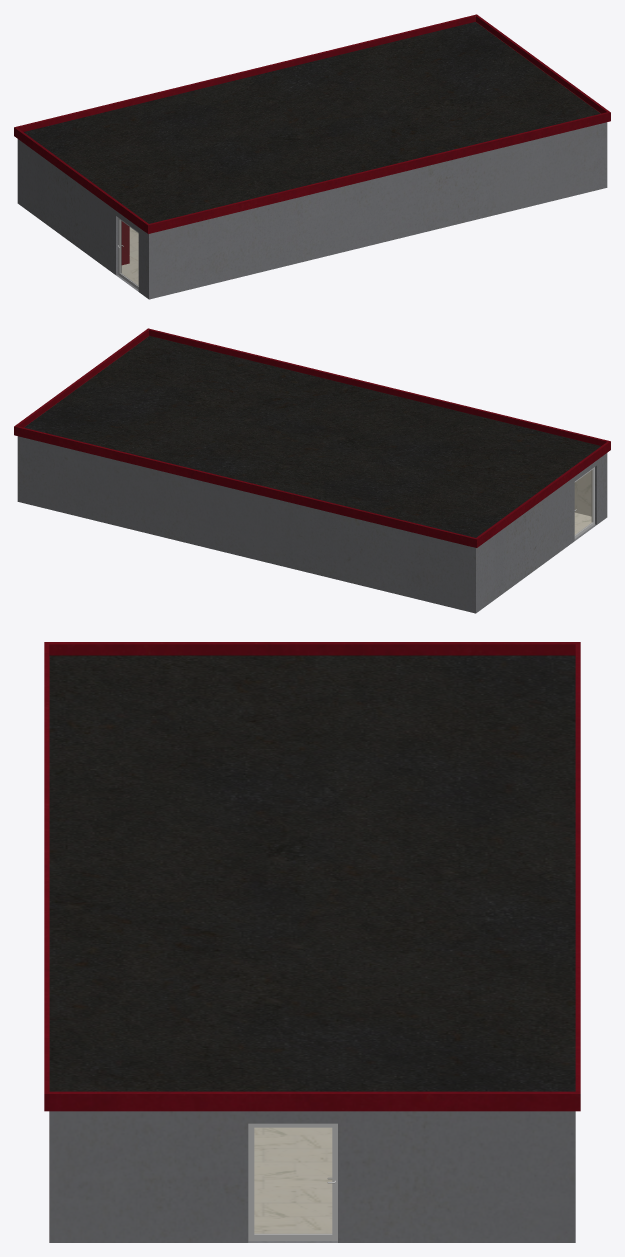
The model's file is shop.obj.
3 views of the same model, one above another, from view 1: azimuth 30°, elevation 25°; view 2: azimuth 150°, elevation 25°; view 3: azimuth 270°, elevation 25° (orthographic). The views are drawn at different scales.
Parts seen in each view (by area): view 1: shop, door_2; view 2: shop, door_2; view 3: shop, door_1.
Boxes of the visible parts, left/top/right/bottom form: shop: left=14, top=14, right=610, bottom=299; door_2: left=117, top=218, right=138, bottom=289; shop: left=14, top=328, right=610, bottom=613; door_2: left=574, top=467, right=594, bottom=538; shop: left=44, top=642, right=580, bottom=1242; door_1: left=248, top=1123, right=337, bottom=1240.
Bounding box in the file's own units: 16.66 × 2.6 × 8.36.
